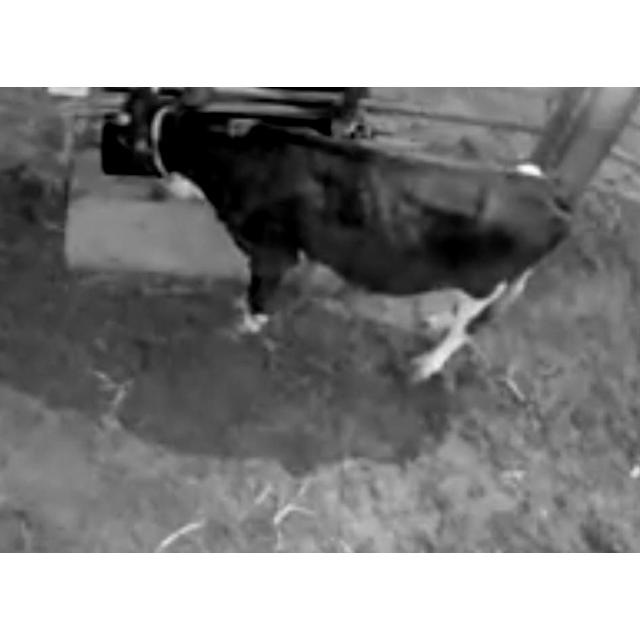drink: (107, 94, 253, 190)
